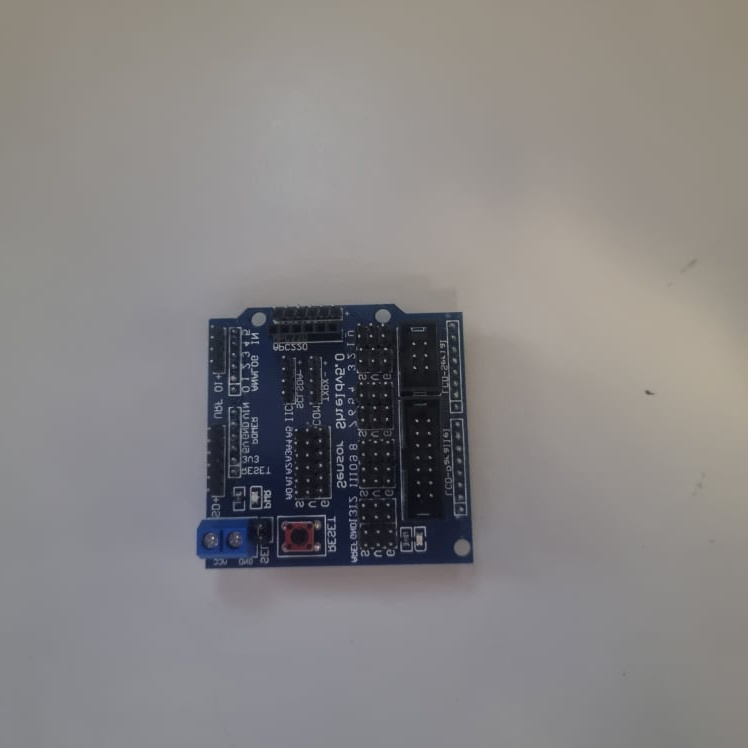5V EXPANSION: (194, 305, 469, 572)
